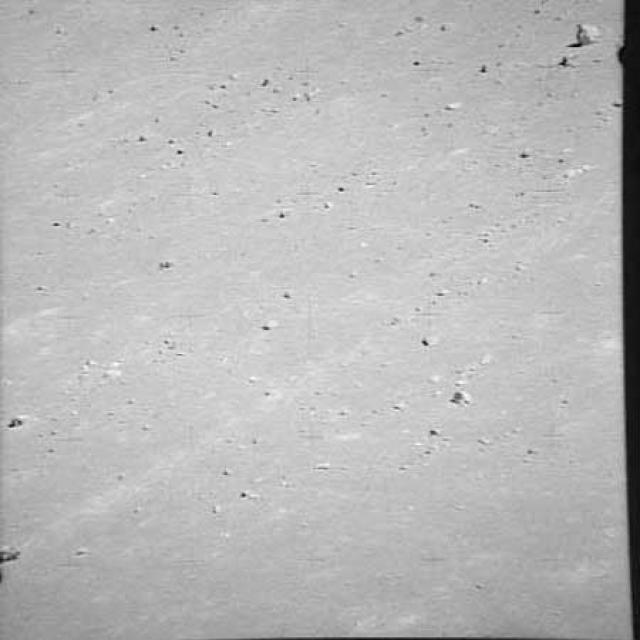rock: (3, 405, 42, 434), (0, 536, 27, 571), (574, 18, 602, 50), (417, 326, 440, 349)
